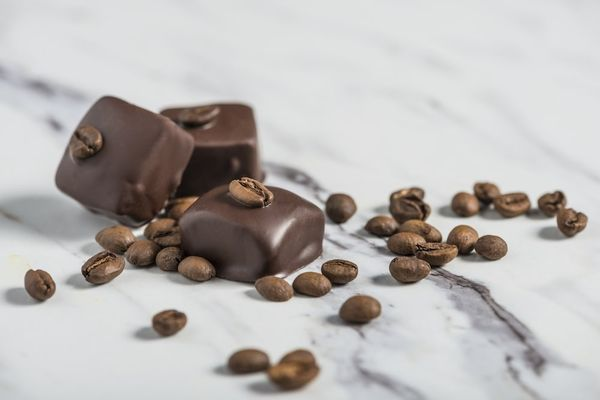salad: (493, 191, 532, 217)
sushi: (0, 77, 600, 399), (178, 176, 326, 283)
